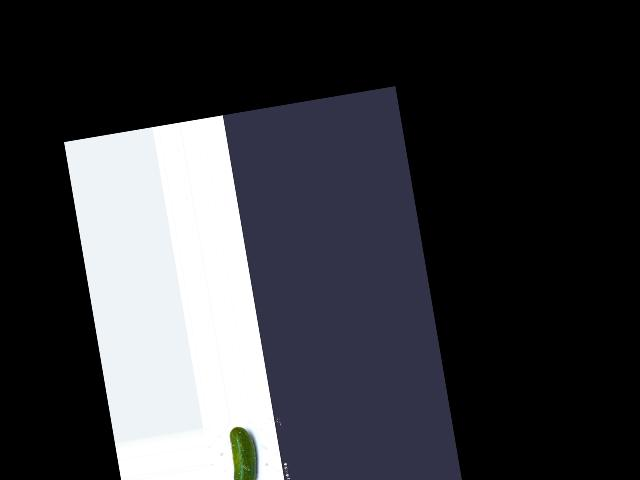cucumber: (225, 423, 262, 480)
